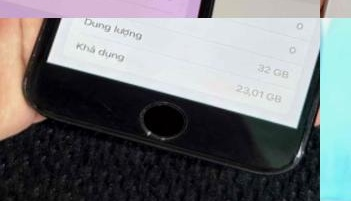scratch: (16, 18, 95, 112), (126, 92, 195, 146), (265, 128, 315, 178), (306, 28, 320, 98)
